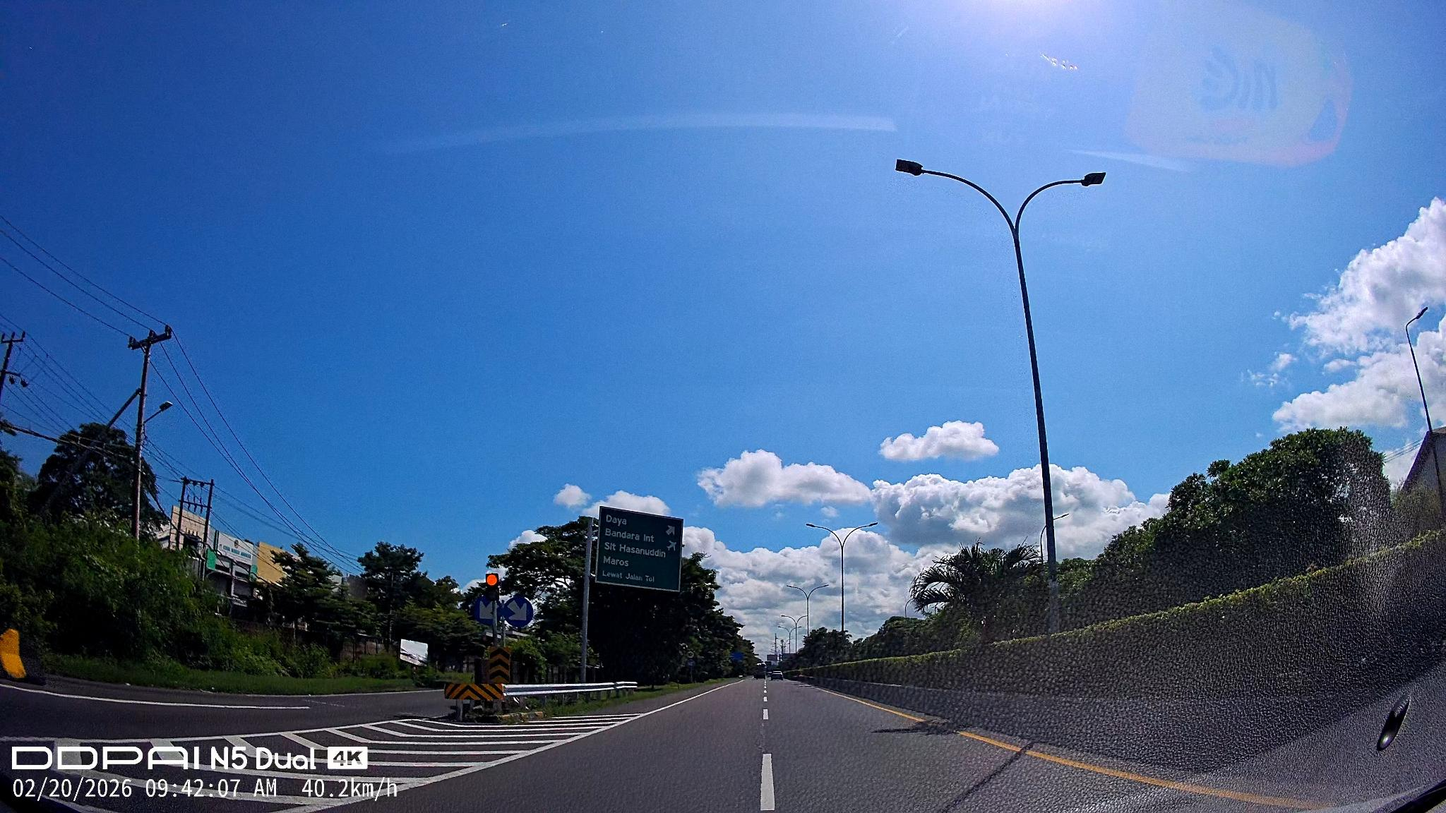rambu_teks: (598, 506, 683, 590)
